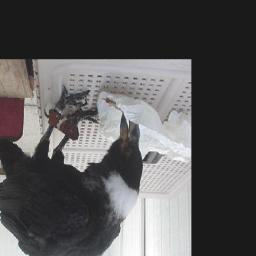Crow: (0, 85, 146, 256)
